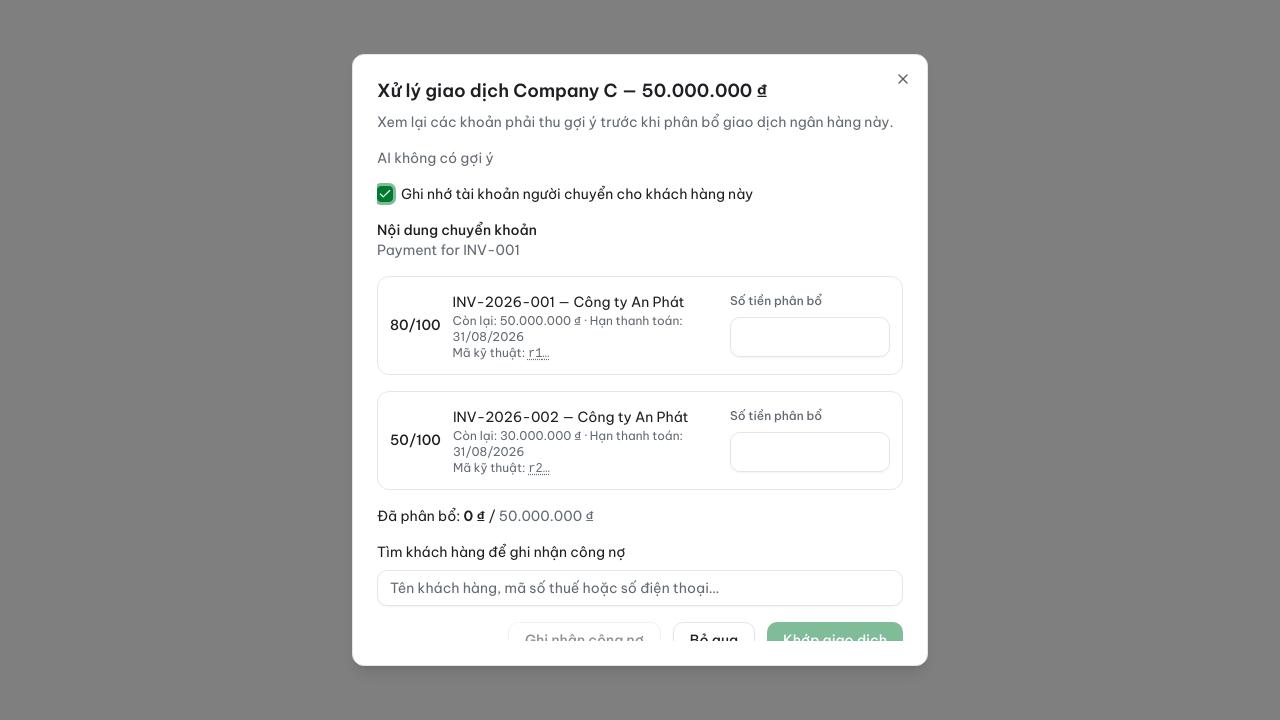
it: SplitMatchDialog › shows allocation errors from the backend inline
The image size is (1280, 720).
Expected: the text "80/100" is shown, [390, 315, 441, 335]
Step 1. Type "1000000" into the number field labelled "Số tiền phân bổ" in the row of "80" → (810, 337), box [730, 317, 890, 357]
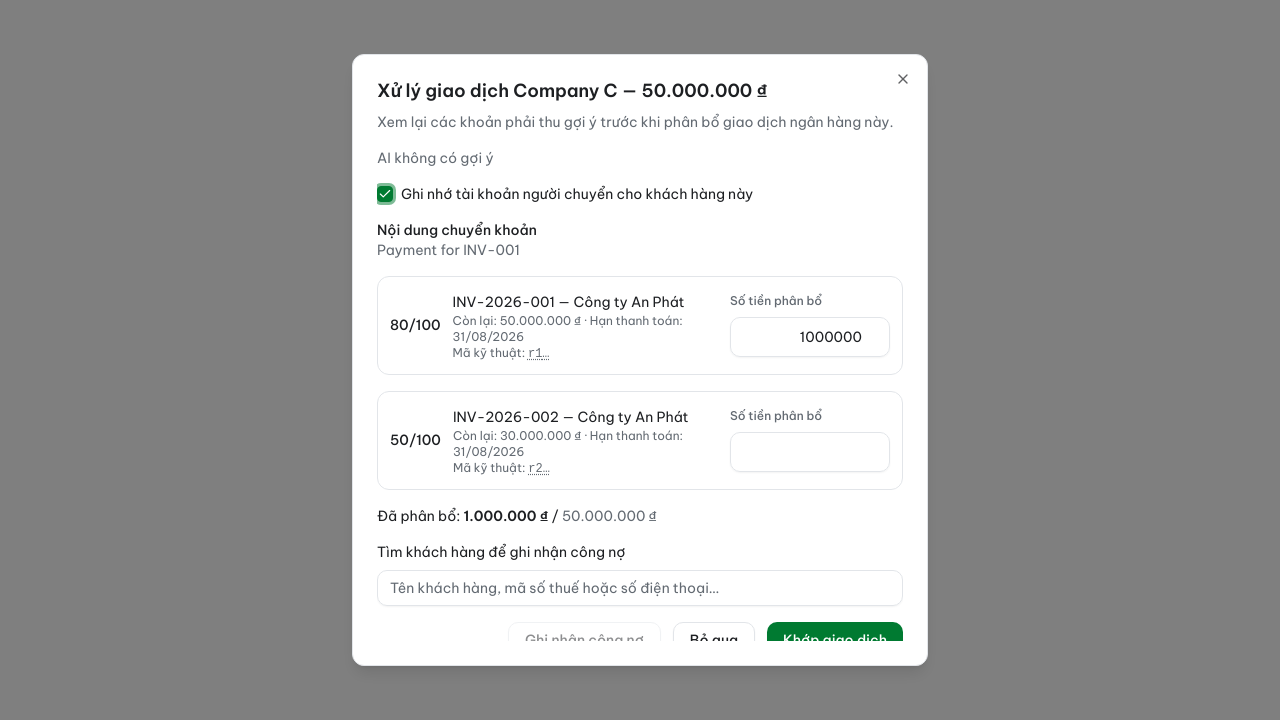
Step 2. Click the button "Khớp giao dịch" → (835, 640), box [767, 622, 903, 658]
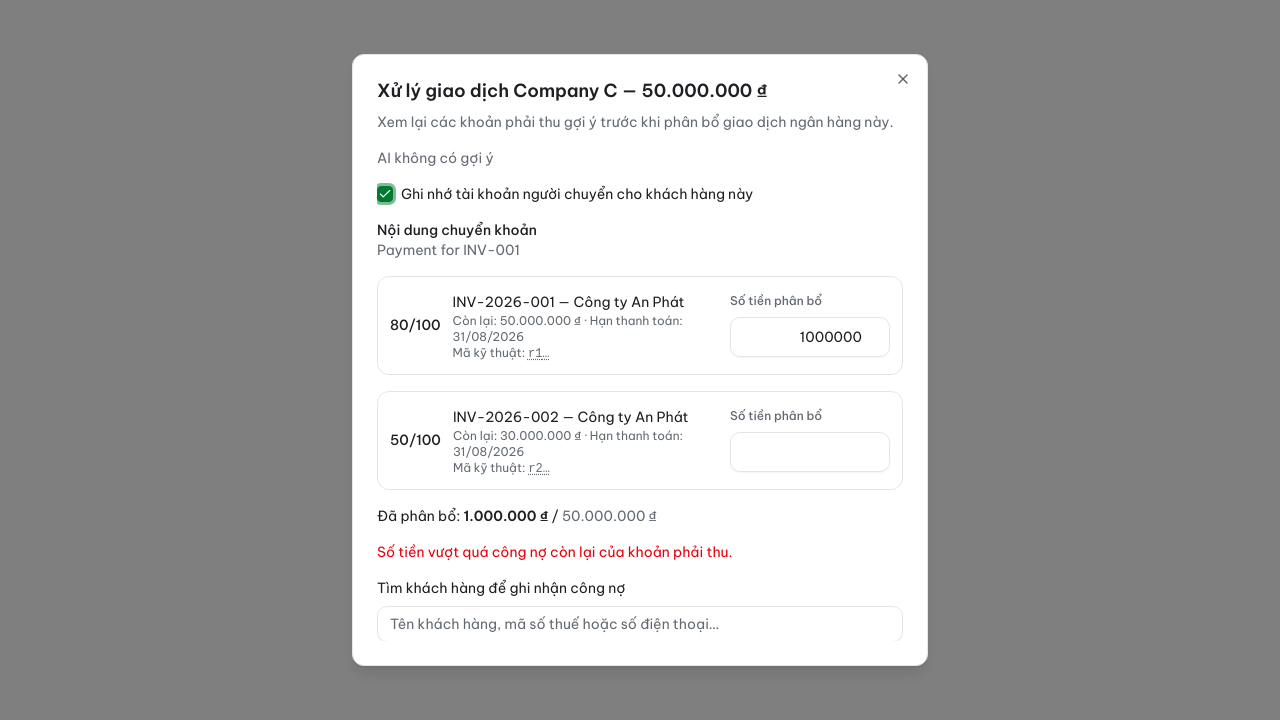
Result: the message reads "Số tiền vượt quá công nợ còn lại của khoản phải thu." at [377, 543, 732, 561]
